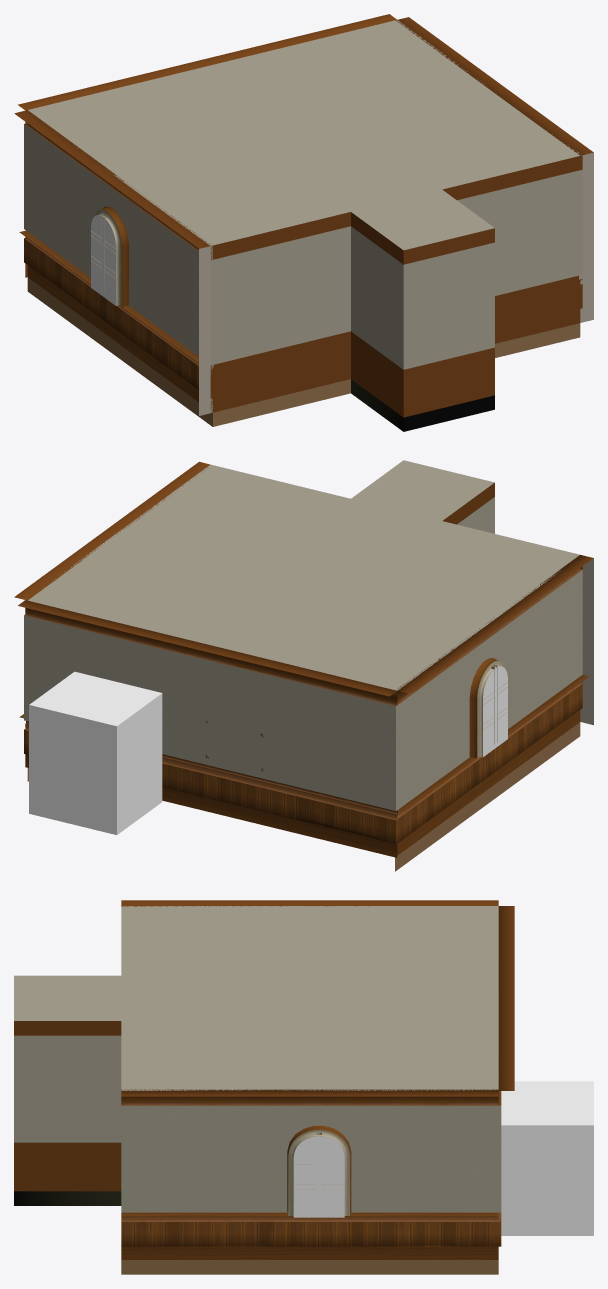
The model's file is animal_crossing_-_resident_services_interior.glb.
3 renders of one model, top to bottom at view 1: azimuth 30°, elevation 25°; view 2: azimuth 150°, elevation 25°; view 3: azimuth 270°, elevation 25°, orthographic.
Visible parts, largest first — view 1: Object_4, Object_6, Object_13, Object_11; view 2: Object_6, Object_4, Object_8, Object_13, Object_11; view 3: Object_4, Object_6, Object_8, Object_13, Object_11.
Boxes of the visible parts, box(x1,y1,x2,y2) form: Object_4: box(28, 20, 582, 417); Object_6: box(14, 14, 593, 415); Object_13: box(27, 277, 580, 431); Object_11: box(91, 215, 115, 305); Object_6: box(14, 461, 593, 857); Object_4: box(28, 460, 582, 690); Object_8: box(29, 671, 162, 834); Object_13: box(27, 722, 580, 871); Object_11: box(483, 666, 507, 756); Object_4: box(14, 906, 498, 1191); Object_6: box(121, 900, 514, 1259); Object_8: box(501, 1081, 593, 1235); Object_13: box(14, 1191, 498, 1274); Object_11: box(293, 1136, 344, 1217).
Bounding box in the file's own units: 86.5 × 38 × 108.
11 materials, 8 textured.
